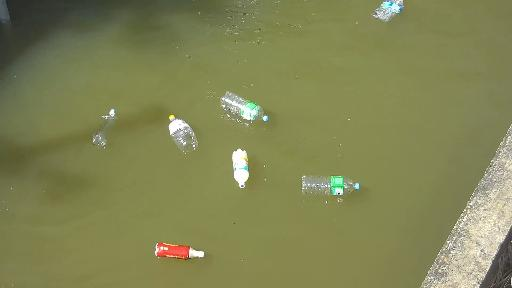plastic: (217, 86, 276, 127), (168, 115, 220, 161), (298, 174, 366, 195), (149, 240, 206, 265), (353, 0, 410, 22), (233, 152, 264, 190), (93, 110, 112, 140)
